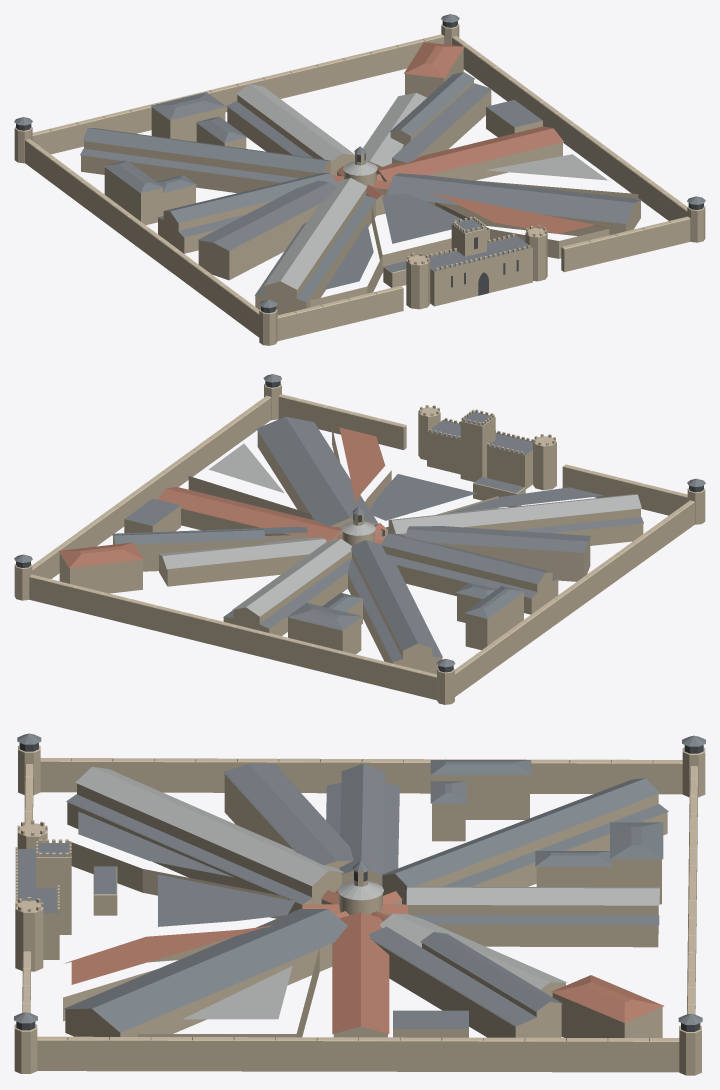
File: phl-eastern-state-penitentiary.glb
3 views of the same model, one above another, from view 1: azimuth 30°, elevation 25°; view 2: azimuth 150°, elevation 25°; view 3: azimuth 270°, elevation 25° (orthographic). The views are drawn at different scales.
Parts seen in each view (by area): view 1: Eastern State Penitentiary; view 2: Eastern State Penitentiary; view 3: Eastern State Penitentiary.
Boxes of the visible parts, x1,y1,x2,y2 form: Eastern State Penitentiary: (14, 14, 705, 345); Eastern State Penitentiary: (14, 374, 705, 704); Eastern State Penitentiary: (14, 733, 705, 1075).
Size of the model in its own units: 203 by 26.5 by 205.
